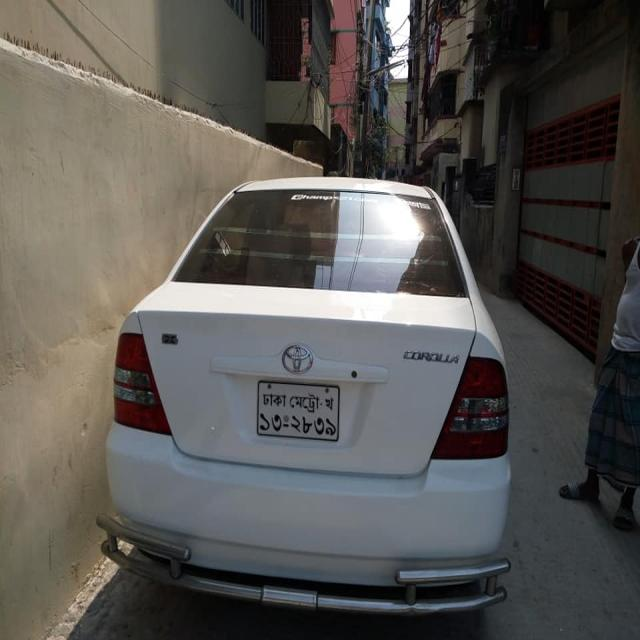car: (80, 152, 541, 640)
